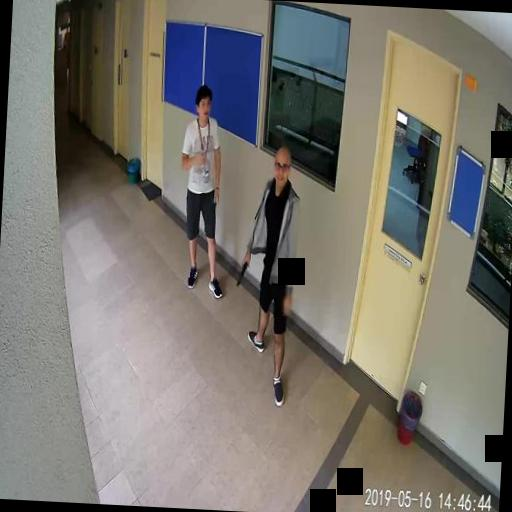Handgun: (236, 256, 248, 285)
